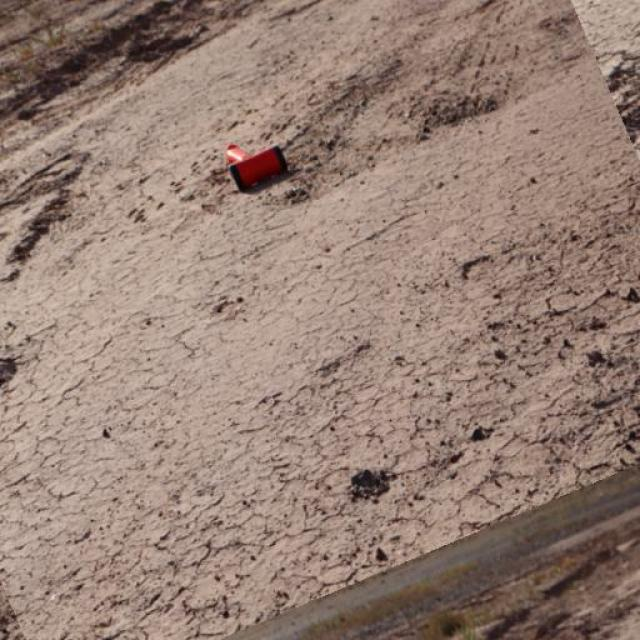mallet: (224, 141, 288, 191)
